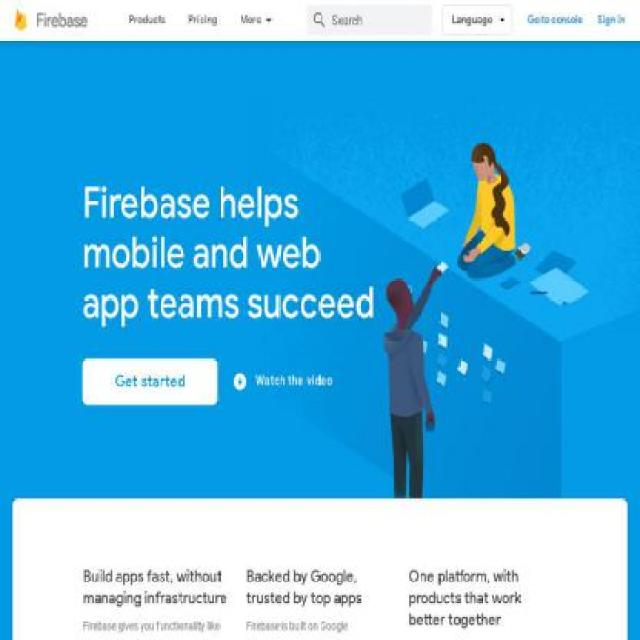button: (82, 358, 218, 405), (227, 363, 339, 400), (442, 4, 512, 36), (523, 4, 588, 36), (15, 6, 88, 34), (592, 4, 631, 36)
field: (307, 4, 431, 36)
